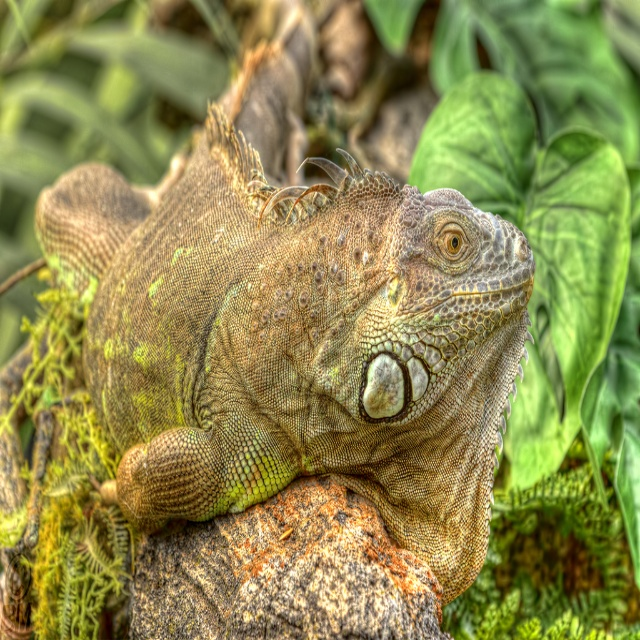Lizard: (34, 0, 535, 605)
